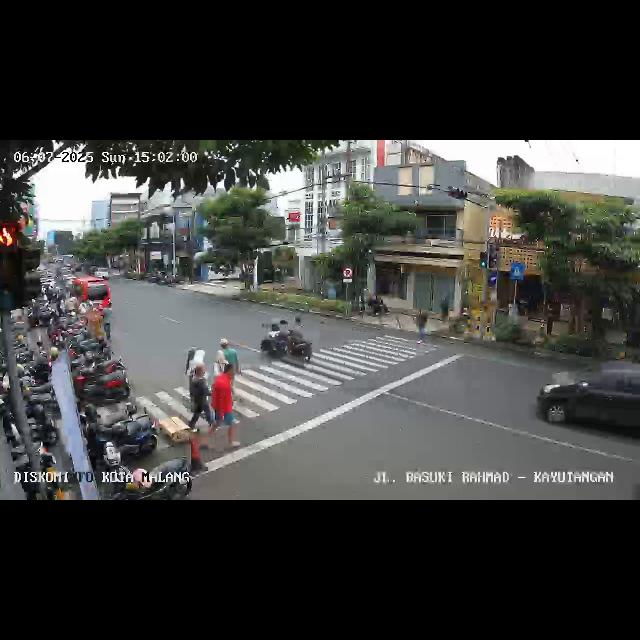car: (535, 362, 639, 452), (69, 276, 111, 312)
motorcycle: (259, 317, 313, 367)
person: (199, 364, 241, 450), (187, 364, 215, 432), (220, 338, 242, 402), (190, 349, 207, 387), (415, 309, 431, 349), (212, 350, 228, 374), (104, 303, 112, 343)
